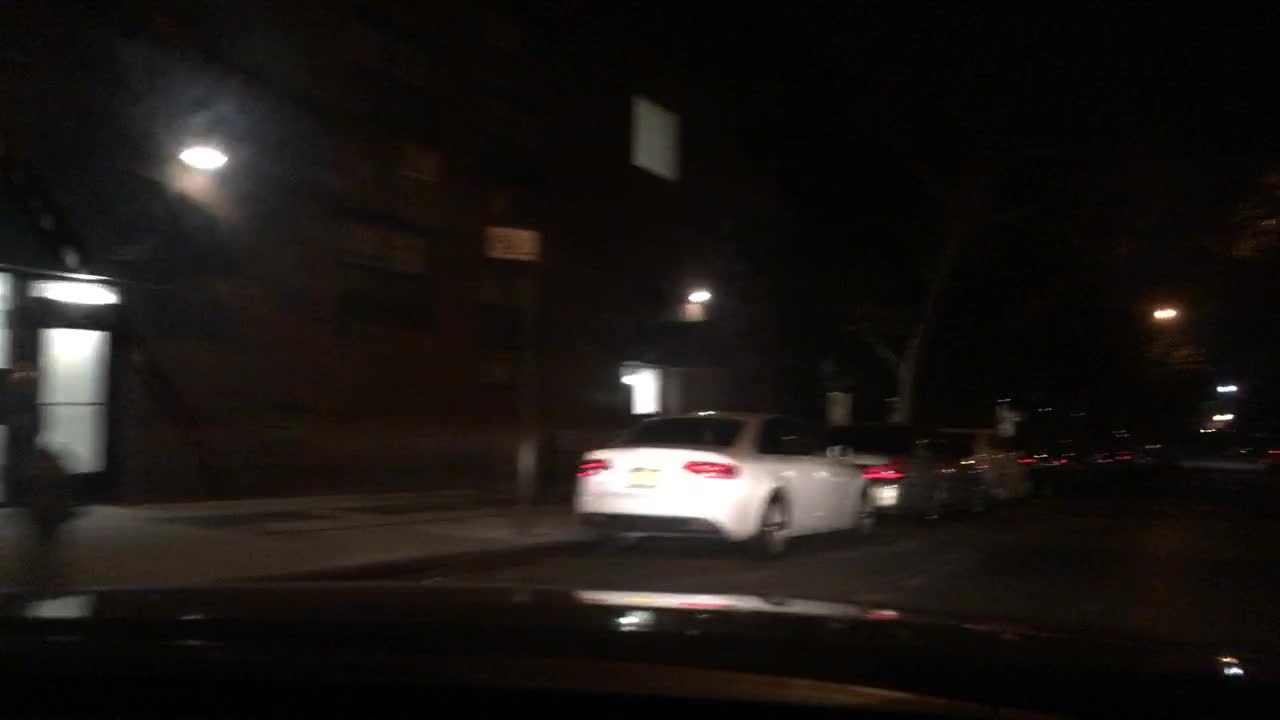car: (571, 407, 896, 560), (829, 424, 994, 524), (931, 425, 1041, 503), (1018, 440, 1092, 482), (1091, 444, 1143, 475), (1142, 441, 1185, 469), (1251, 435, 1278, 462)
traffic sign: (485, 225, 539, 260)
